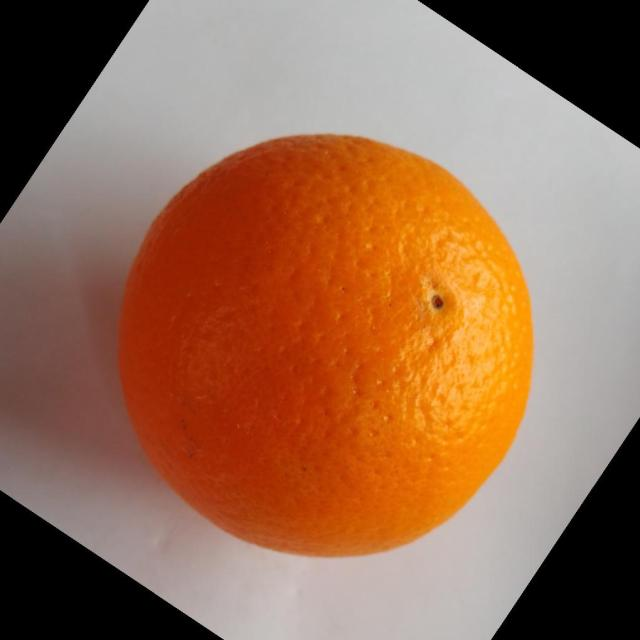fresh orange: (116, 131, 534, 559)
